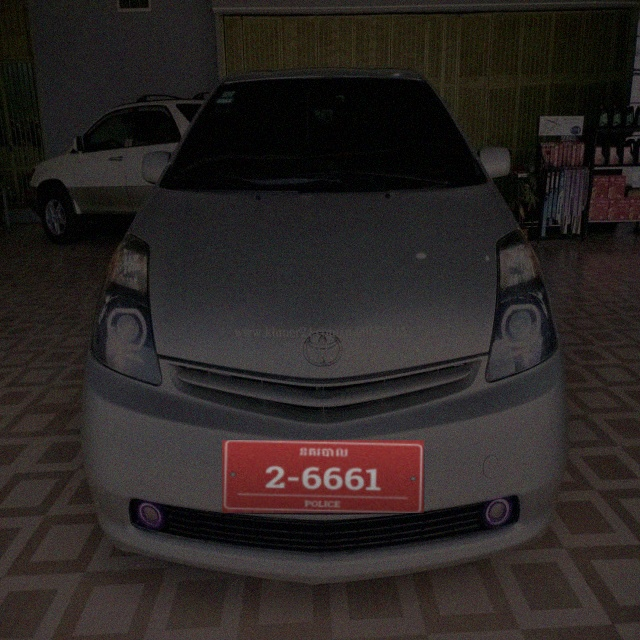Plate Number: (222, 441, 424, 513)
